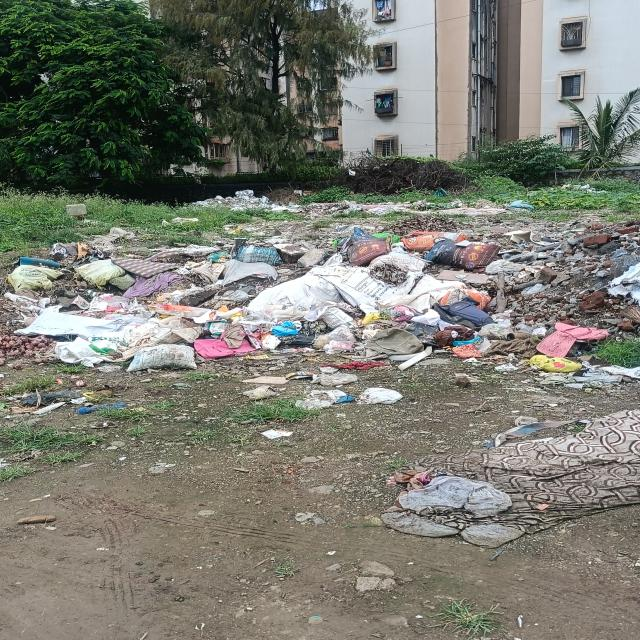garbage: (3, 226, 640, 411), (406, 417, 640, 541), (193, 192, 534, 216)
